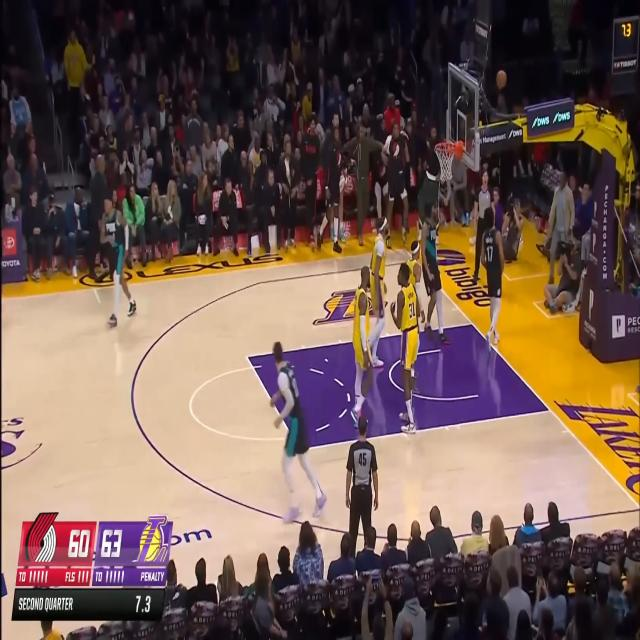Ball: (495, 69, 507, 91)
Clock: (614, 17, 639, 59), (475, 0, 490, 26)
Hoop: (433, 140, 458, 181)
Overlay: (12, 512, 174, 622)
Player: (270, 340, 328, 524), (99, 194, 138, 328), (391, 262, 420, 437), (421, 198, 452, 349), (349, 264, 374, 433), (481, 206, 506, 355), (366, 215, 390, 368), (407, 240, 426, 396)
Ref: (345, 415, 379, 582), (471, 167, 496, 286)
Scoreboard: (11, 512, 173, 621)
